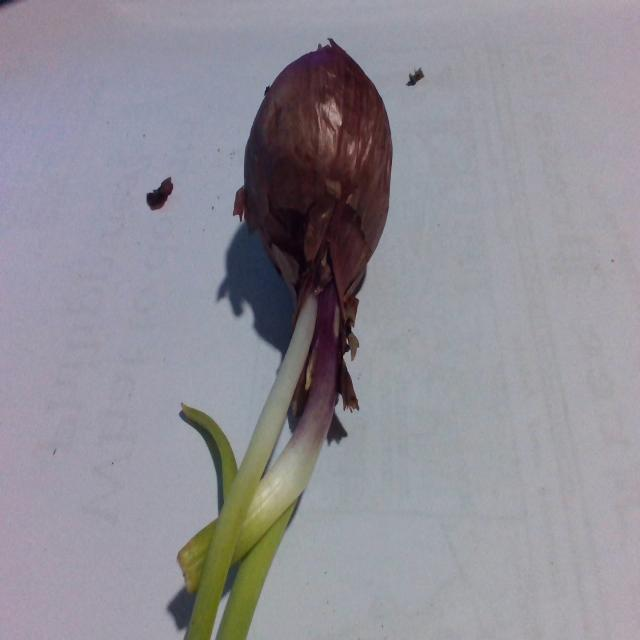onion: (220, 25, 405, 311)
